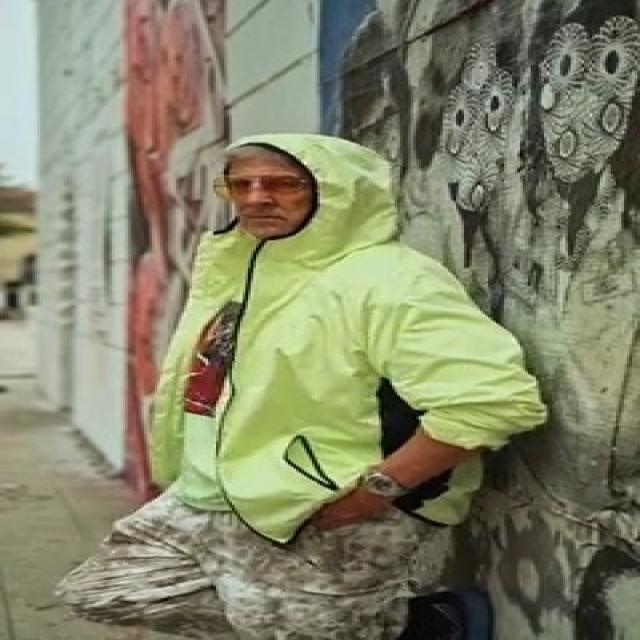Jacket_Wearer: (168, 232, 577, 541)
Person: (133, 120, 562, 624)
